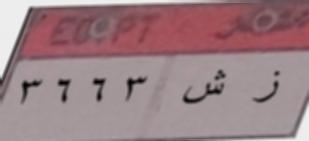3: (119, 70, 159, 107), (18, 77, 45, 110)
6: (87, 72, 113, 105), (54, 70, 75, 108)
sheen: (179, 62, 230, 110)
zay: (250, 64, 286, 107)
